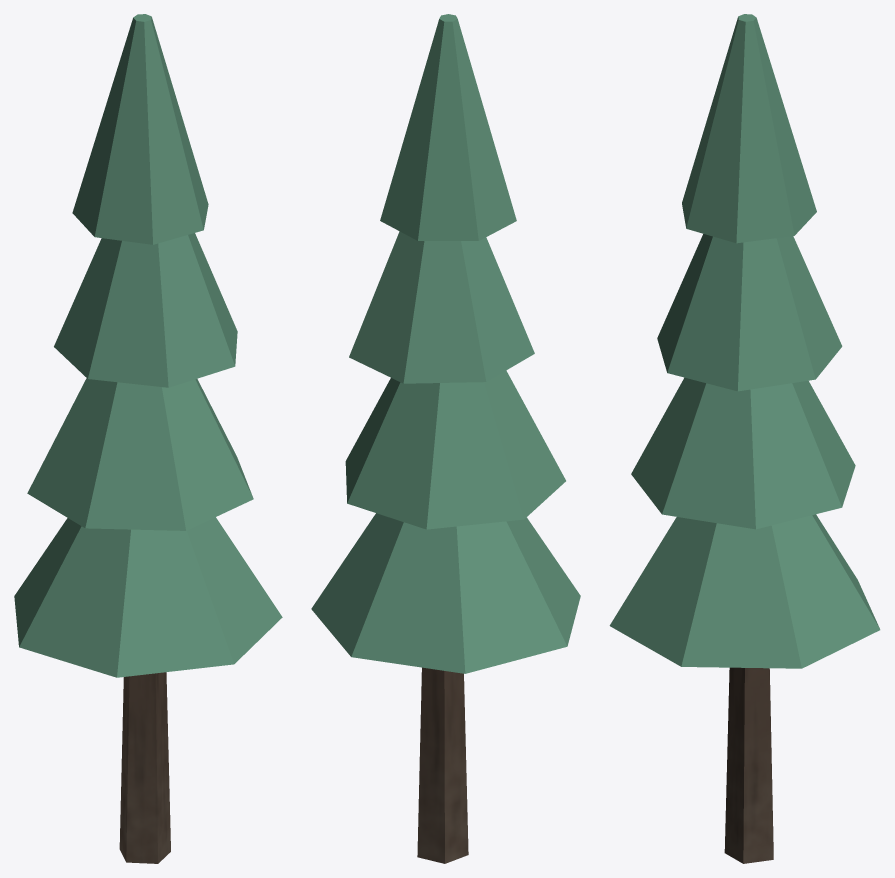
Rendered from arv_pinheiro_3.glb.
3 views of the same model, side by side, from view 1: azimuth 30°, elevation 25°; view 2: azimuth 150°, elevation 25°; view 3: azimuth 270°, elevation 25° (orthographic).
Parts seen in each view (by area): view 1: arv_pinheiro_3; view 2: arv_pinheiro_3; view 3: arv_pinheiro_3.
Part boxes in pixels (bbox=[...]): arv_pinheiro_3: bbox=[14, 14, 282, 863]; arv_pinheiro_3: bbox=[311, 14, 580, 863]; arv_pinheiro_3: bbox=[609, 14, 880, 863].
Bounding box in the file's own units: 0.8384 × 2.89 × 0.853.
2 materials, 1 textured.
